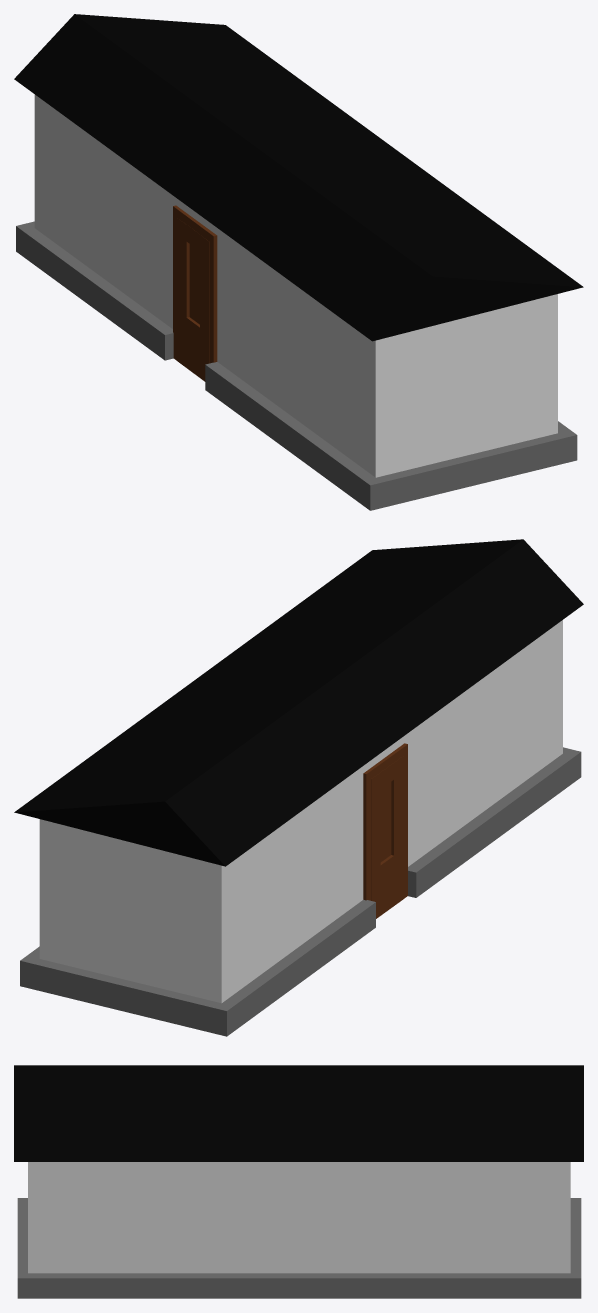
File: zdanie.FBX
3 views of the same model, one above another, from view 1: azimuth 30°, elevation 25°; view 2: azimuth 150°, elevation 25°; view 3: azimuth 270°, elevation 25° (orthographic). The views are drawn at different scales.
Parts seen in each view (by area): view 1: Prism01, Box01, Box03, PivotDoor01; view 2: Prism01, Box01, Box03, PivotDoor01; view 3: Box01, Prism01, Box03.
Part boxes in pixels (x1,y1,x2,y2): Prism01: [14, 14, 583, 341]; Box01: [34, 94, 557, 477]; Box03: [16, 221, 577, 510]; PivotDoor01: [173, 205, 217, 381]; Prism01: [14, 539, 583, 866]; Box01: [39, 620, 562, 1003]; Box03: [20, 747, 581, 1036]; PivotDoor01: [363, 743, 407, 918]; Box01: [28, 1162, 570, 1273]; Prism01: [14, 1065, 583, 1161]; Box03: [17, 1198, 581, 1298].
Bounding box in the file's own units: 52.73 × 52.75 × 155.
